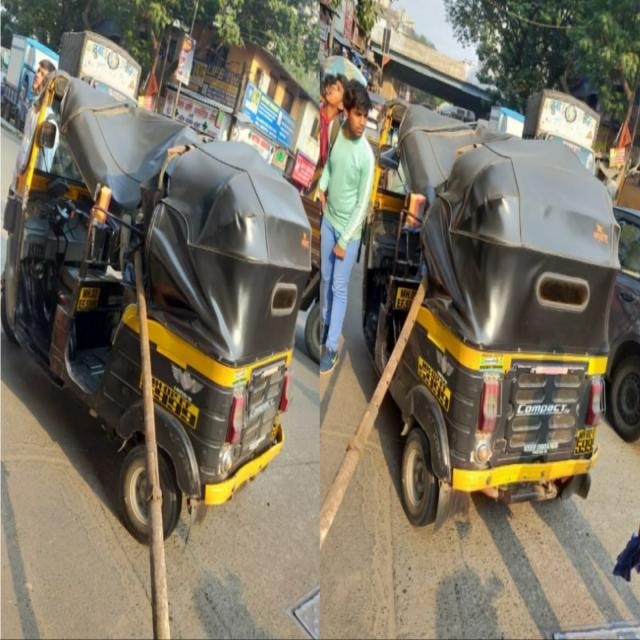accident: (2, 69, 310, 539), (361, 103, 620, 524)
